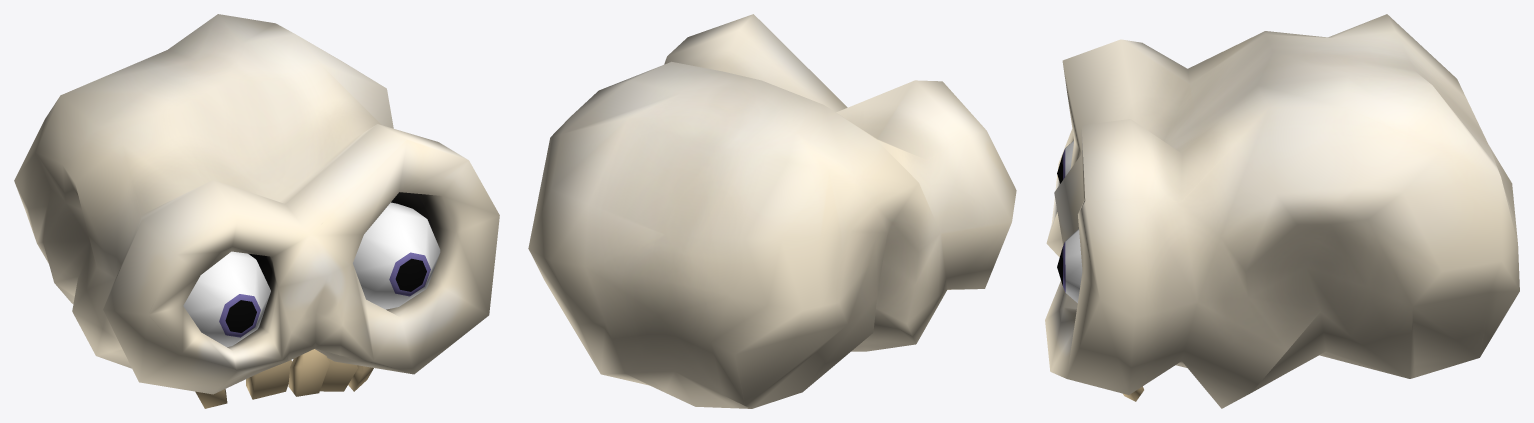
File: cabeza.fbx
The picture shows the model from 3 angles, left to right: view 1: azimuth 30°, elevation 25°; view 2: azimuth 150°, elevation 25°; view 3: azimuth 270°, elevation 25°; orthographic projection. The views are drawn at different scales.
Parts seen in each view (by area): view 1: pasted__Head, pasted__Eye1.001, pasted__Eye1, pasted__Teeth; view 2: pasted__Head; view 3: pasted__Head, pasted__Eye1.001.
Boxes of the visible parts, x1,y1,x2,y2 form: pasted__Head: (14, 14, 499, 394); pasted__Eye1.001: (353, 202, 440, 309); pasted__Eye1: (183, 251, 270, 347); pasted__Teeth: (195, 349, 373, 408); pasted__Head: (528, 14, 1016, 408); pasted__Head: (1045, 14, 1519, 408); pasted__Eye1.001: (1057, 229, 1082, 302).
Size of the model in its own units: 69.26 by 48.39 by 66.65.
